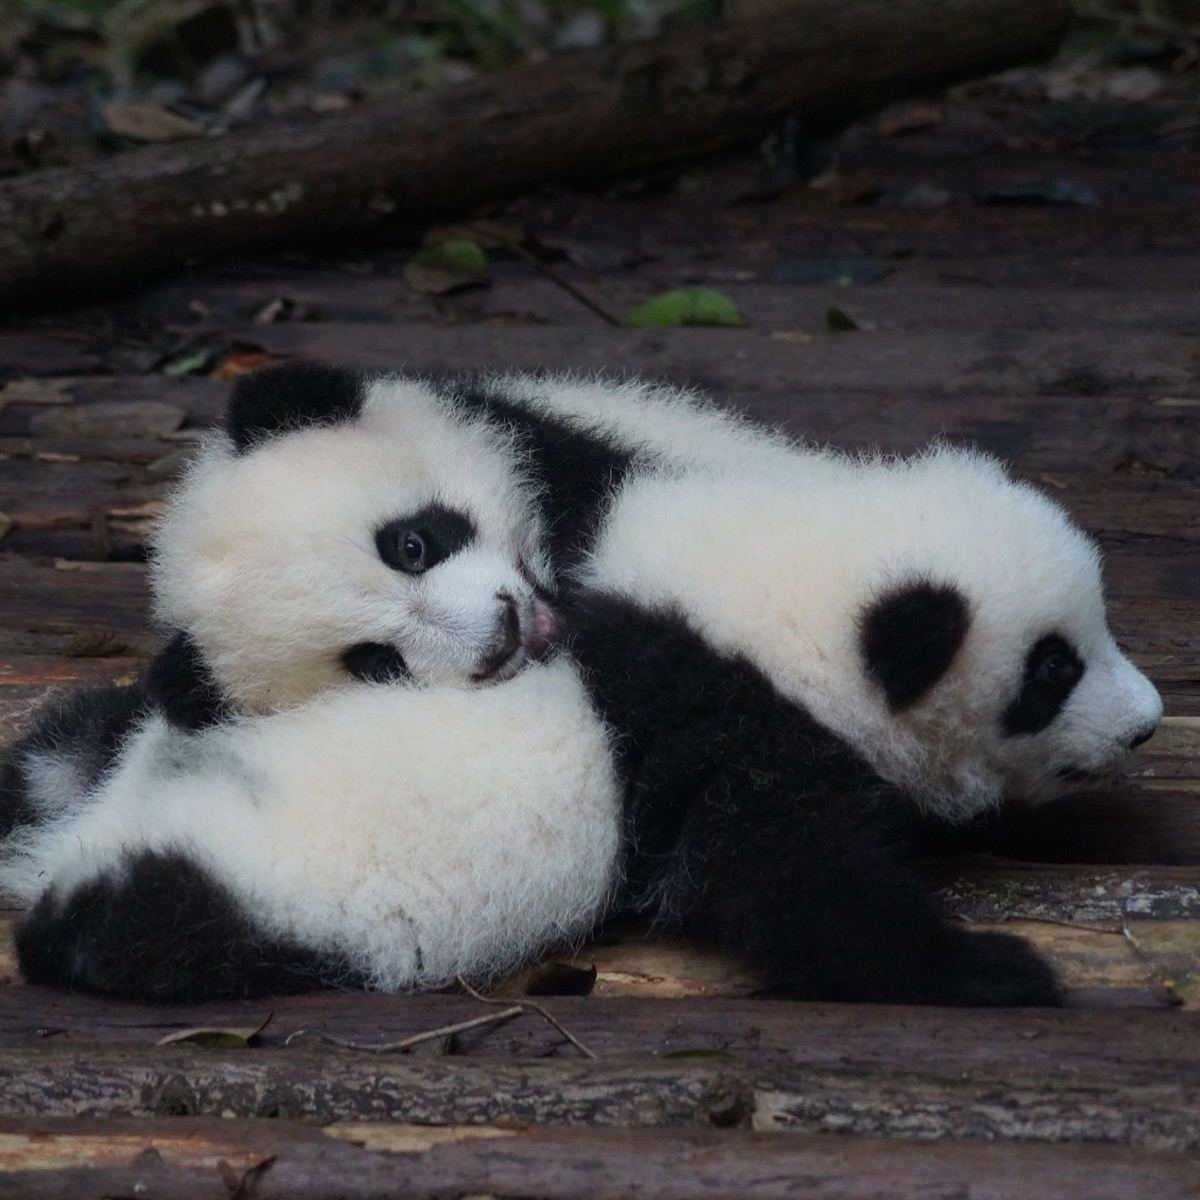panda: (0, 286, 1154, 1026)
